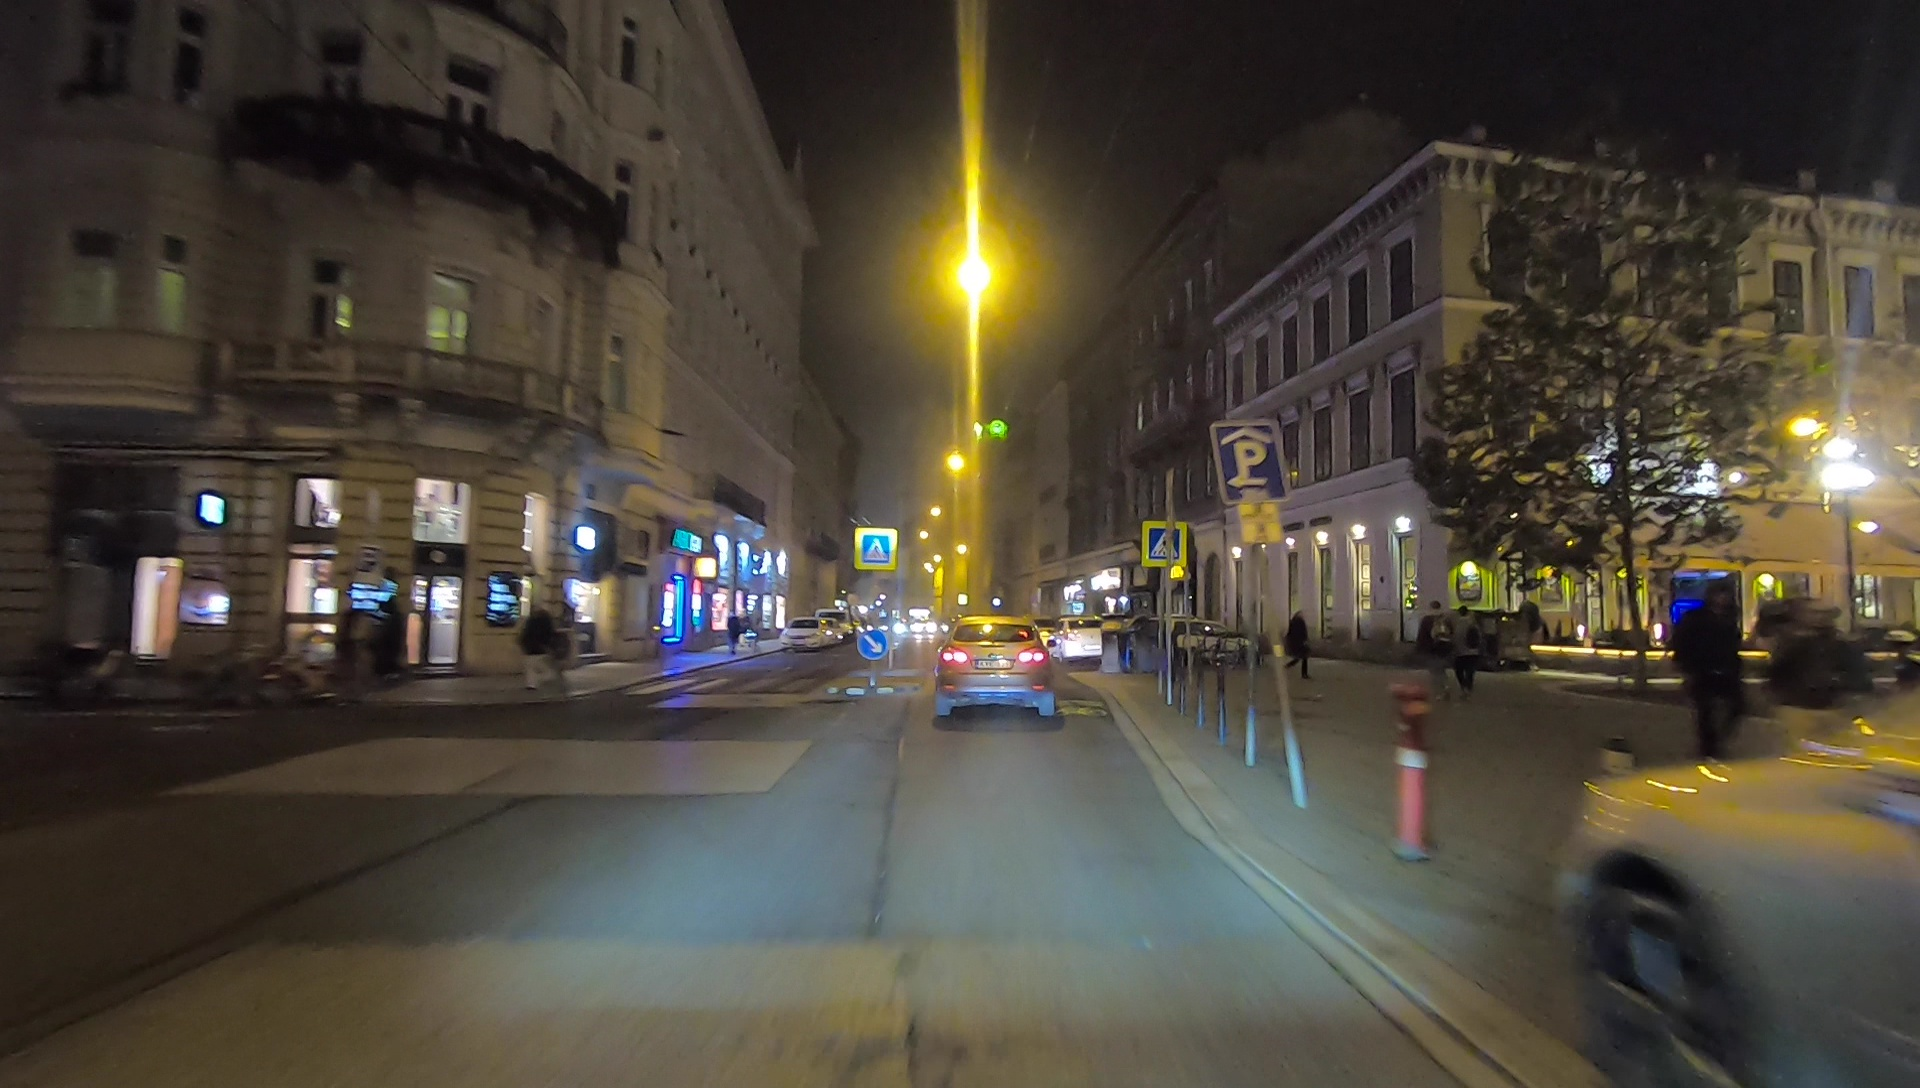person: (1764, 589, 1841, 795), (1680, 589, 1736, 780), (1417, 602, 1454, 702), (519, 604, 551, 693), (375, 599, 406, 682), (554, 600, 580, 682), (1282, 610, 1312, 676), (1458, 610, 1480, 695), (726, 610, 739, 652)
